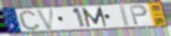1: (72, 7, 87, 29)
C: (17, 9, 42, 32)
I: (119, 4, 132, 28)
M: (81, 6, 109, 29)
P: (128, 4, 149, 27)
V: (34, 7, 56, 31)
